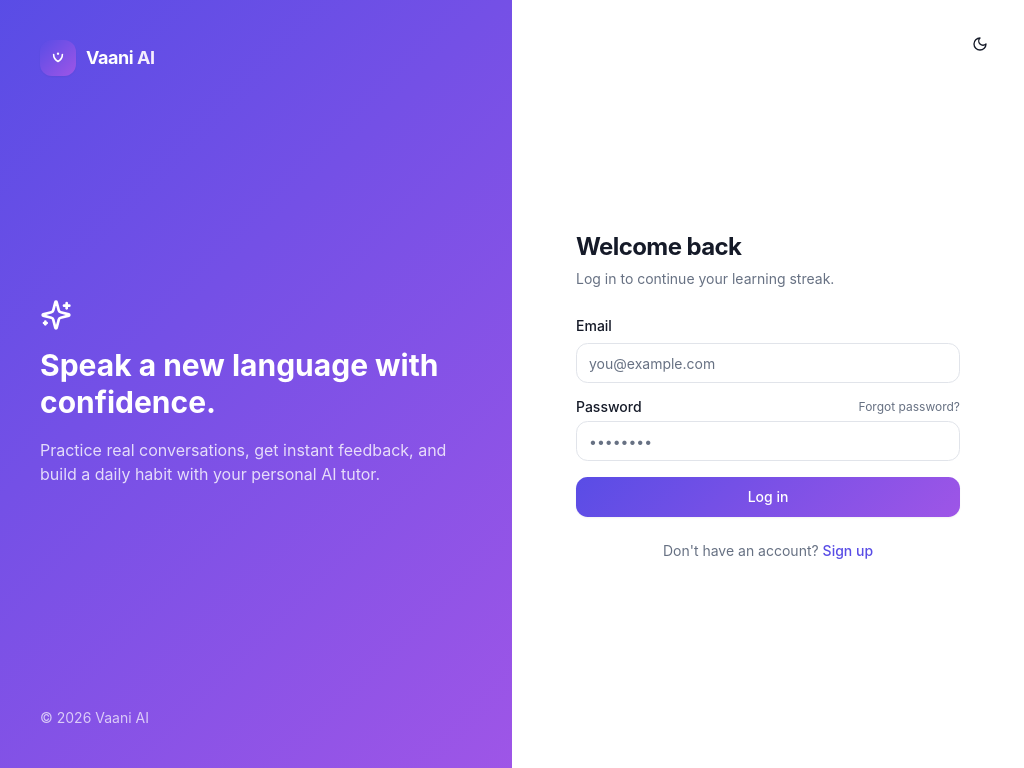
Scenario: LoginPage › shows client-side validation errors on empty submit
Click the button "Log in": [768, 497] box 576,477 -> 960,517
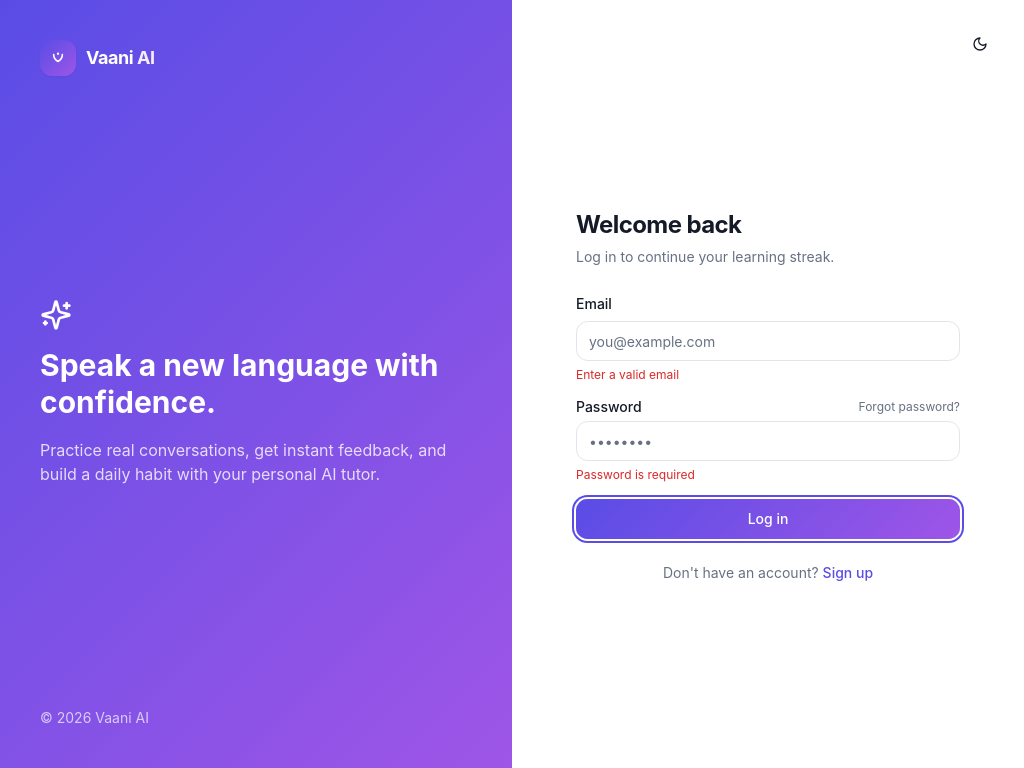
Check: the text "Enter a valid email" is shown, box 576,367 -> 679,382
Check: the text "Password is required" is shown, box 576,467 -> 695,482
